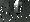person: (15, 2, 20, 16), (19, 4, 24, 16)
